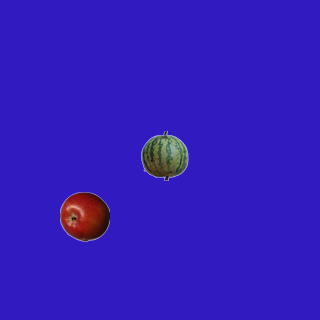Apple Braeburn: (59, 191, 109, 241)
Watermelon: (139, 130, 189, 180)
